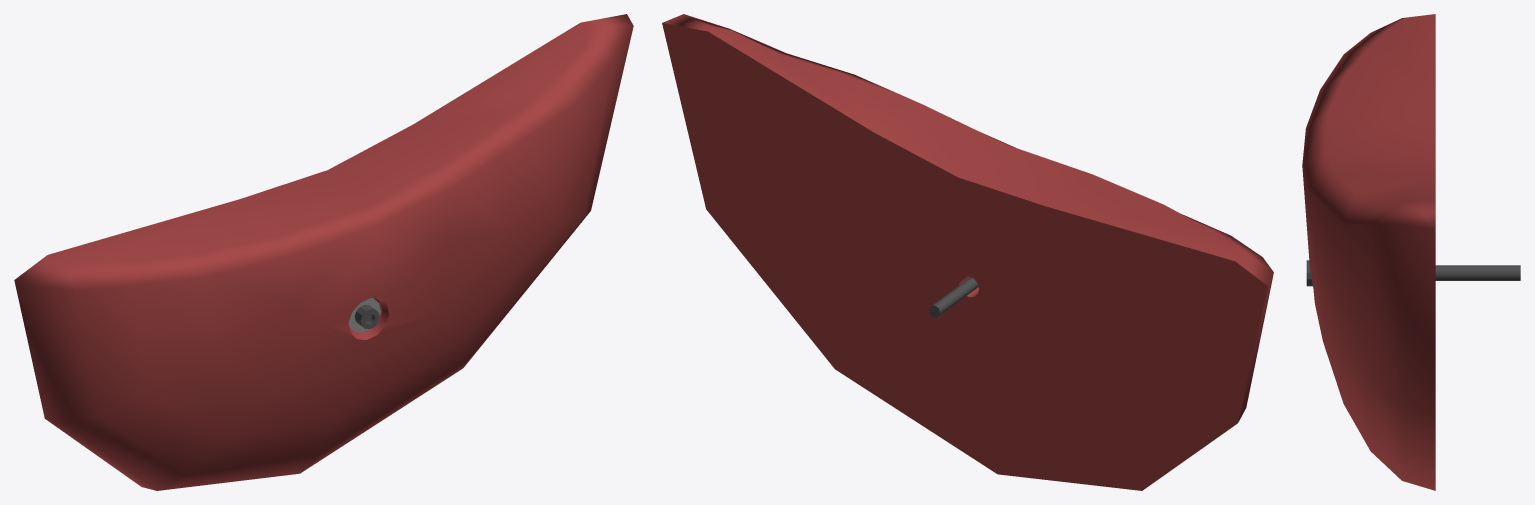
Rendered from slopeyRail_med.fbx.
The picture shows the model from 3 angles, left to right: view 1: azimuth 30°, elevation 25°; view 2: azimuth 150°, elevation 25°; view 3: azimuth 270°, elevation 25°; orthographic projection. The views are drawn at different scales.
Parts seen in each view (by area): view 1: slopeyRail_med_hold; view 2: slopeyRail_med_hold, slopeyRail_med_bolt; view 3: slopeyRail_med_hold, slopeyRail_med_bolt.
Part boxes in pixels (x1=…): slopeyRail_med_hold: x1=14, y1=14, x2=633, y2=490; slopeyRail_med_hold: x1=662, y1=14, x2=1273, y2=490; slopeyRail_med_bolt: x1=929, y1=277, x2=978, y2=317; slopeyRail_med_hold: x1=1302, y1=14, x2=1435, y2=490; slopeyRail_med_bolt: x1=1306, y1=260, x2=1520, y2=286.
Size of the model in its own units: 26.82 by 15.74 by 7.03.
